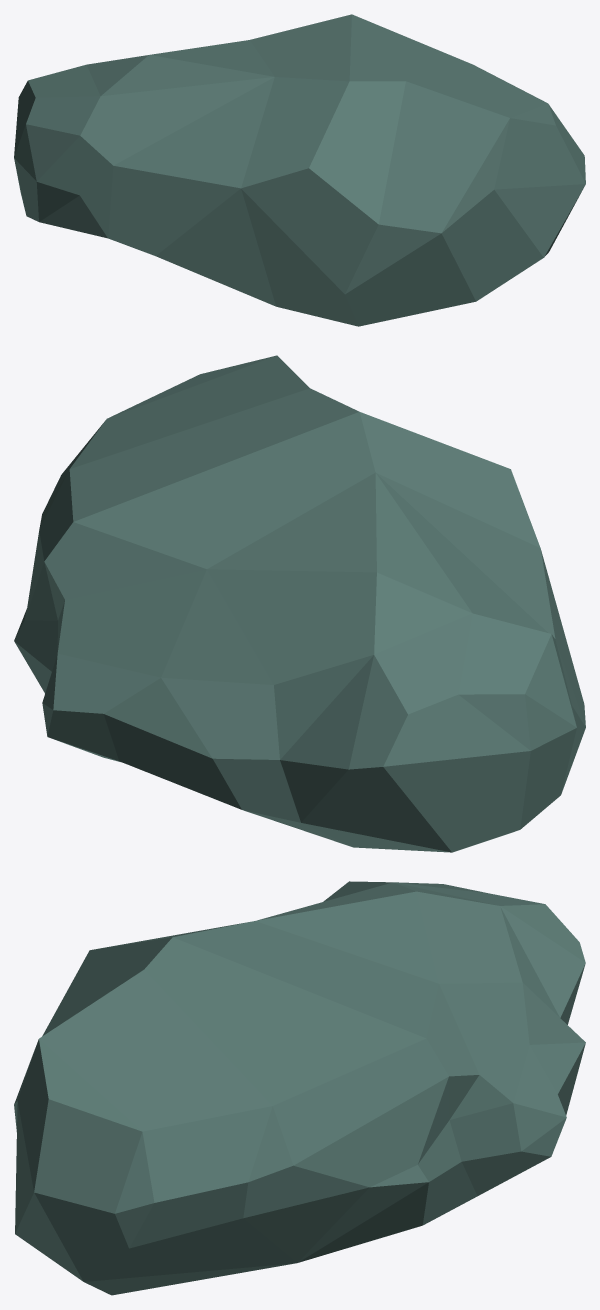
3 views of the same model, one above another, from view 1: azimuth 30°, elevation 25°; view 2: azimuth 150°, elevation 25°; view 3: azimuth 270°, elevation 25° (orthographic). The views are drawn at different scales.
Parts seen in each view (by area): view 1: 石头9; view 2: 石头9; view 3: 石头9.
Boxes of the visible parts, left/top/right/bottom form: 石头9: left=14, top=14, right=585, bottom=326; 石头9: left=14, top=355, right=585, bottom=852; 石头9: left=14, top=881, right=585, bottom=1295.
Bounding box in the file's own units: 188 × 86.72 × 162.
